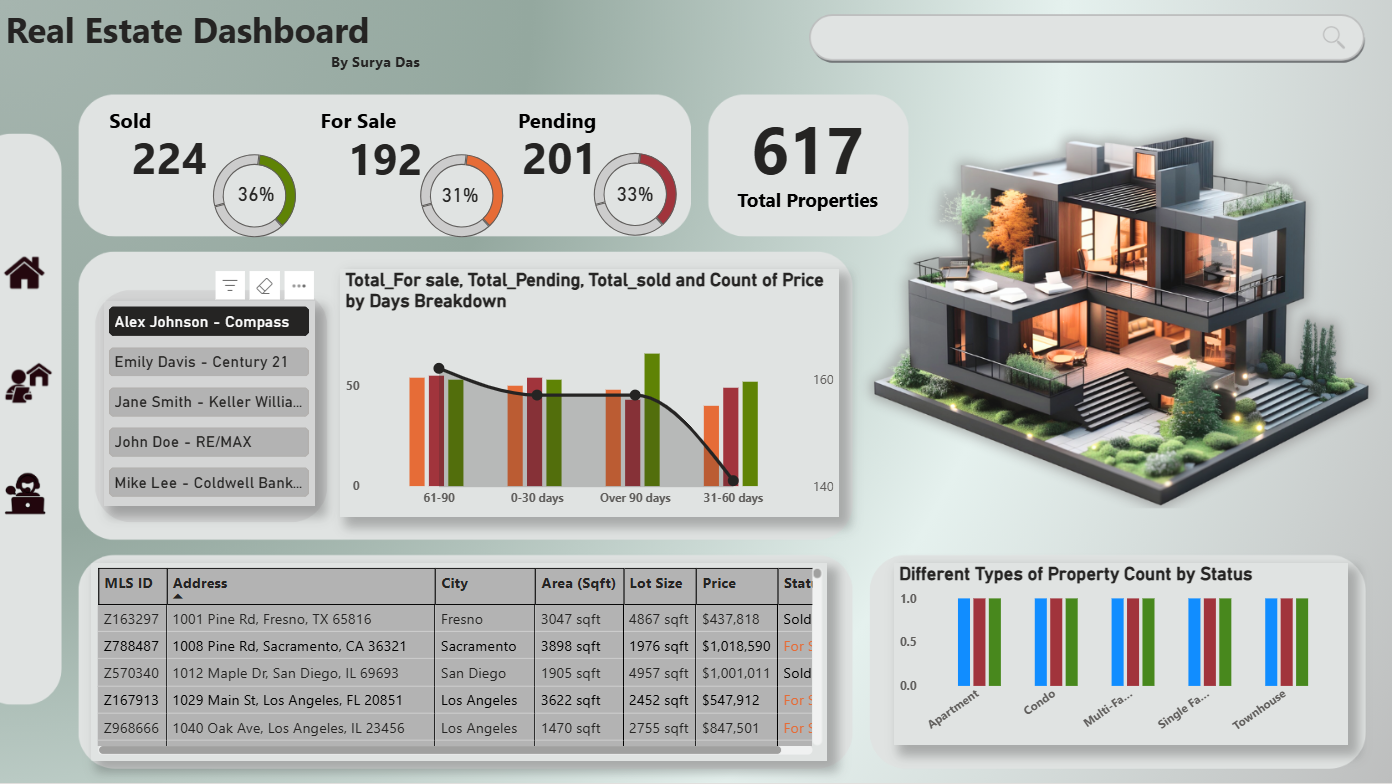

What the dashboard file says about the page in this screenshot:
{"tool":"powerbi","page":{"name":"Page 1","canvas":[1280,720],"ordinal":0},"visuals":[{"type":"card","fields":{"Values":["Measures (2).Total Properties"]},"box":[610.6,11,264.8,267.6],"z":0},{"type":"card","fields":{"Values":["Measures (2).total_sold"]},"box":[95.5,29.9,121.2,229.5],"z":1000},{"type":"textbox","box":[95.5,92.7,108.3,38.5],"z":2000},{"type":"card","fields":{"Values":["Measures (2).total_sale"]},"box":[203.8,31.4,302.2,228.1],"z":3000},{"type":"textbox","box":[289.4,92.7,104.1,52.7],"z":4000},{"type":"card","fields":{"Values":["Measures (2).total_Pending"]},"box":[440.4,30.2,149.6,228],"z":5000},{"type":"textbox","box":[471.8,92.7,118.3,38.5],"z":6000},{"type":"card","fields":{"Values":["Measures (2).%_total_sold"]},"box":[192.4,145.4,86.9,68.4],"z":7000},{"type":"card","fields":{"Values":["Measures (2).%_total_For_Sale"]},"box":[312.2,81.2,220.9,196.7],"z":8000},{"type":"card","fields":{"Values":["Measures (2).%_total_Pending"]},"box":[474.1,80.8,220.8,196.6],"z":9000},{"type":"donutChart","fields":{"Y":["CountNonNull(RealEstate_Dataset.Status)"],"Category":["RealEstate_Dataset.Status"]},"box":[156.8,132.6,155.4,95.5],"z":10000},{"type":"donutChart","fields":{"Y":["CountNonNull(RealEstate_Dataset.Status)"],"Category":["RealEstate_Dataset.Status"]},"box":[369.2,132.6,111.2,95.5],"z":11000},{"type":"donutChart","fields":{"Y":["CountNonNull(RealEstate_Dataset.Status)"],"Category":["RealEstate_Dataset.Status"]},"box":[530.8,131.5,106.2,95.3],"z":12000},{"type":"lineClusteredColumnComboChart","title":"Total_For sale, Total_Pending, Total_sold and Count of Price by Days Breakdown","fields":{"Category":["RealEstate_Dataset.Days Breakdown"],"Y":["Measures (2).total_For sale","Measures (2).total_Pending","Measures (2).total_sold"],"Y2":["CountNonNull(RealEstate_Dataset.Price)"]},"box":[312.2,246.6,459,228.1],"z":13000},{"type":"tableEx","fields":{"Values":["RealEstate_Dataset.MLS ID","RealEstate_Dataset.Address","RealEstate_Dataset.City","RealEstate_Dataset.Area (Sqft)","RealEstate_Dataset.Lot Size","RealEstate_Dataset.Price","RealEstate_Dataset.Status"]},"box":[84.5,517.6,676.8,182.2],"z":14000},{"type":"clusteredColumnChart","title":"Different Types of Property Count by Status","fields":{"Y":["CountNonNull(Types of properties.Count of property)"],"Category":["Types of properties.Property Type"],"Series":["RealEstate_Dataset.Status"]},"box":[821.6,517.6,417.4,167.7],"z":14001},{"type":"advancedSlicerVisual","fields":{"Values":["RealEstate_Dataset.Listing Agent"]},"box":[95.3,277.5,194.2,188.2],"z":14002},{"type":"textbox","box":[0,0,417.4,196.6],"z":14003}]}

Visuals, with their boxes in screenshot pixels (x1, y1, x2, y2), scaled from the page's 1280x720 canvas onto the 1392x784 screenshot:
card - Measures (2).Total Properties: <box>664,12,952,303</box>
card - Measures (2).total_sold: <box>104,33,236,282</box>
textbox: <box>104,101,222,143</box>
card - Measures (2).total_sale: <box>222,34,550,283</box>
textbox: <box>315,101,428,158</box>
card - Measures (2).total_Pending: <box>479,33,642,281</box>
textbox: <box>513,101,642,143</box>
card - Measures (2).%_total_sold: <box>209,158,304,233</box>
card - Measures (2).%_total_For_Sale: <box>340,88,580,303</box>
card - Measures (2).%_total_Pending: <box>516,88,756,302</box>
donutChart - CountNonNull(RealEstate_Dataset.Status) x RealEstate_Dataset.Status: <box>171,144,340,248</box>
donutChart - CountNonNull(RealEstate_Dataset.Status) x RealEstate_Dataset.Status: <box>402,144,522,248</box>
donutChart - CountNonNull(RealEstate_Dataset.Status) x RealEstate_Dataset.Status: <box>577,143,693,247</box>
"Total_For sale, Total_Pending, Total_sold and Count of Price by Days Breakdown" lineClusteredColumnComboChart: <box>340,269,839,517</box>
tableEx - RealEstate_Dataset.MLS ID x RealEstate_Dataset.Address: <box>92,564,828,762</box>
"Different Types of Property Count by Status" clusteredColumnChart: <box>893,564,1347,746</box>
advancedSlicerVisual - RealEstate_Dataset.Listing Agent: <box>104,302,315,507</box>
textbox: <box>0,0,454,214</box>
